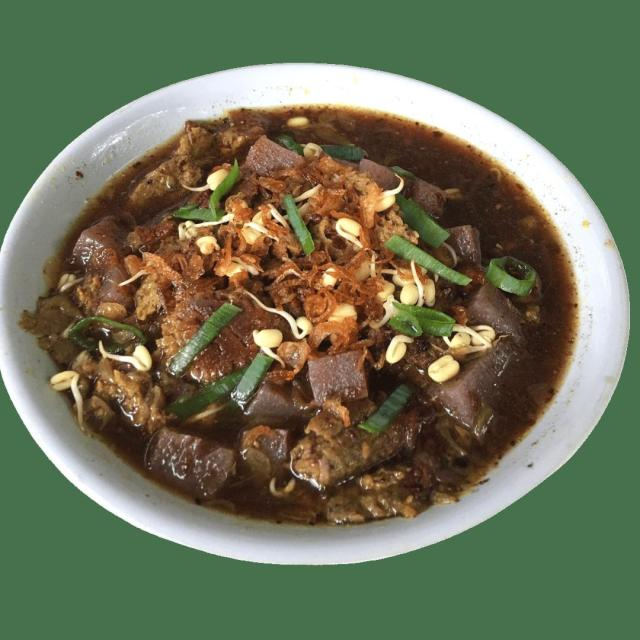Rawon: (51, 118, 566, 531)
